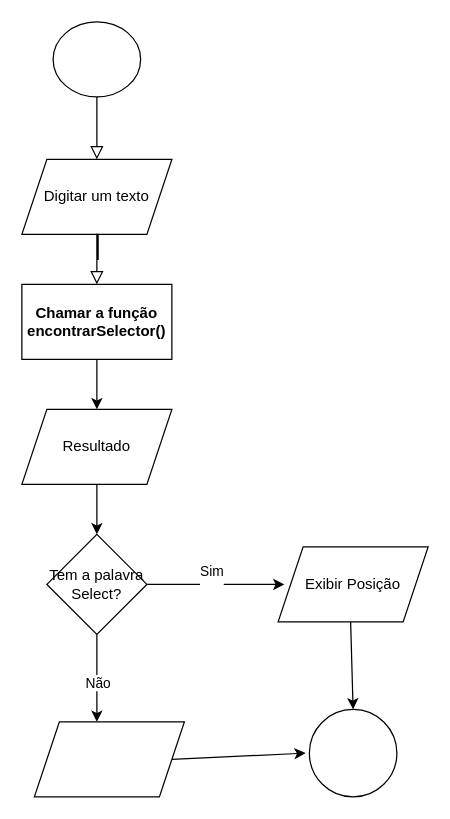
Some shapes in this 450 by 819 pixel diagram are drawn without their labels. Each missing label, with the box of its shape:
Fim: (308, 708, 397, 797)
Início: (52, 21, 141, 97)
Não encontrado: (33, 721, 184, 797)
